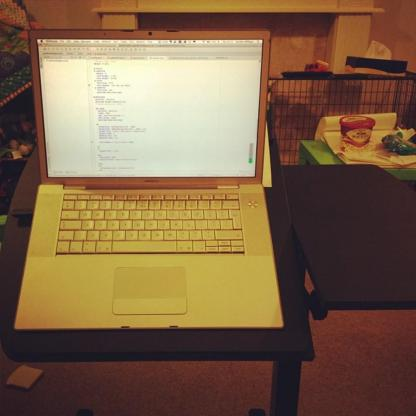board: (11, 31, 292, 370), (342, 116, 376, 160)
